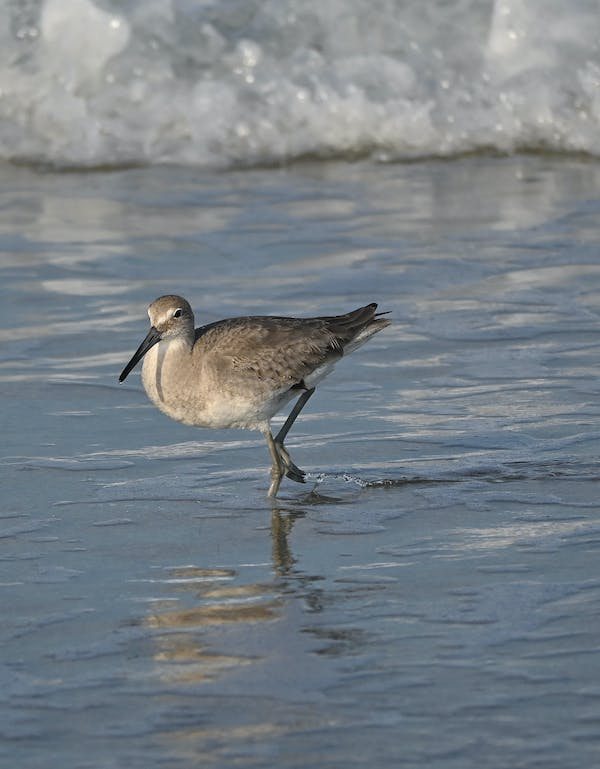Walking: (82, 215, 417, 531)
